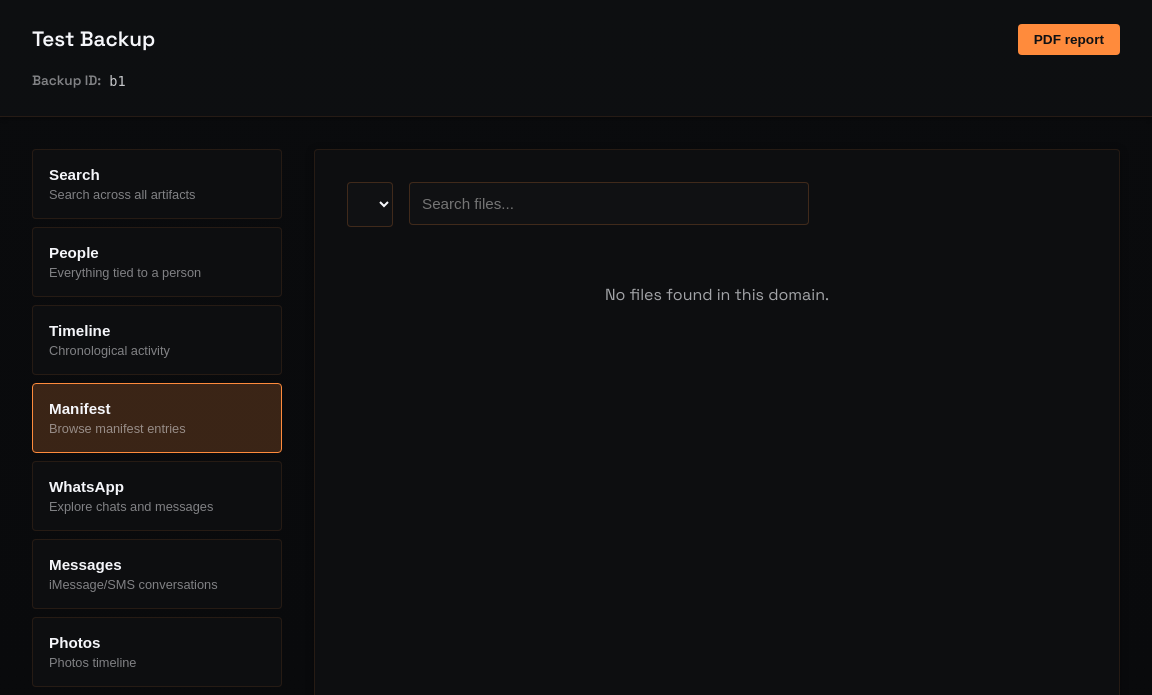
Test: Explorer · Messages flow › lists conversations, auto-selects the first, and renders its messages
This screenshot has width=1152, height=695.
Click the button "Messages iMessage/SMS conversations" at (157, 574), box [32,539,282,609]
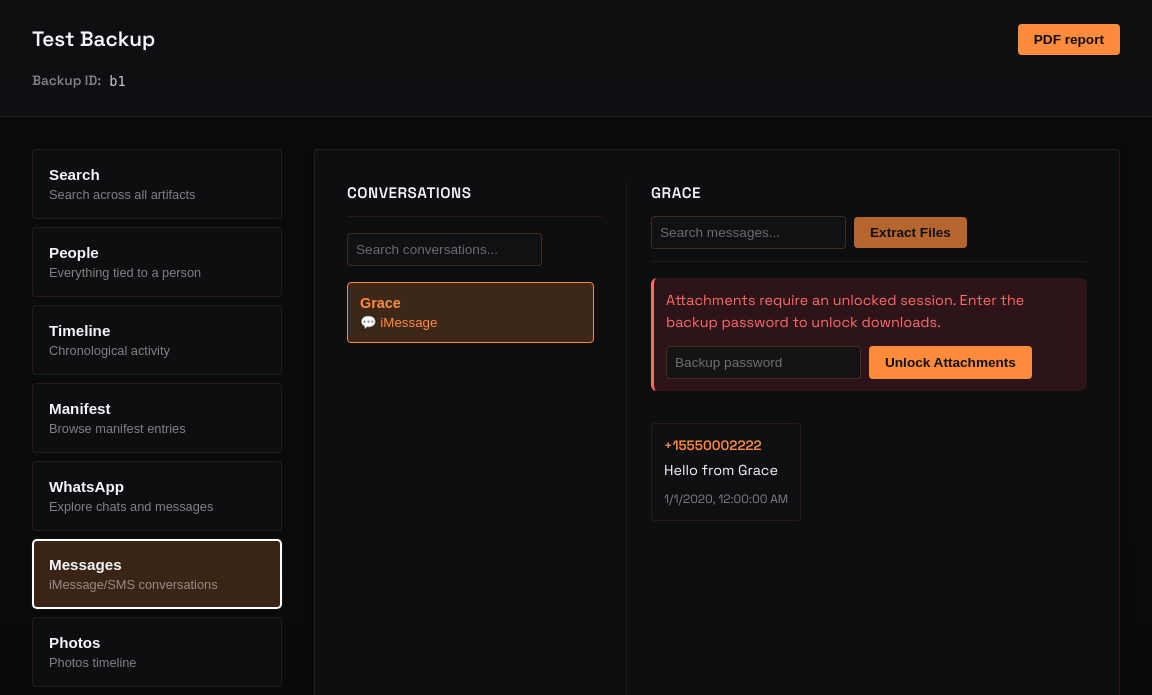
Expected: the text "Hello from Grace" is shown, [664,460,788,482]
